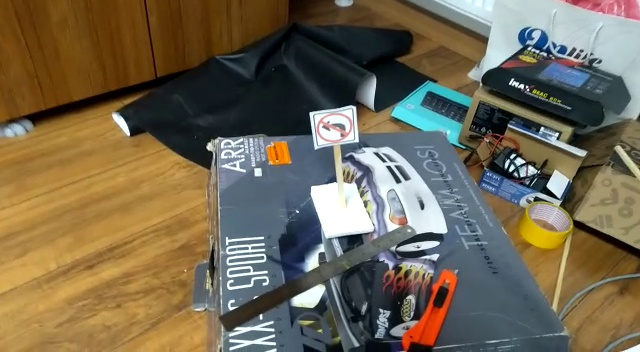sola_donulmez: (314, 108, 354, 146)
